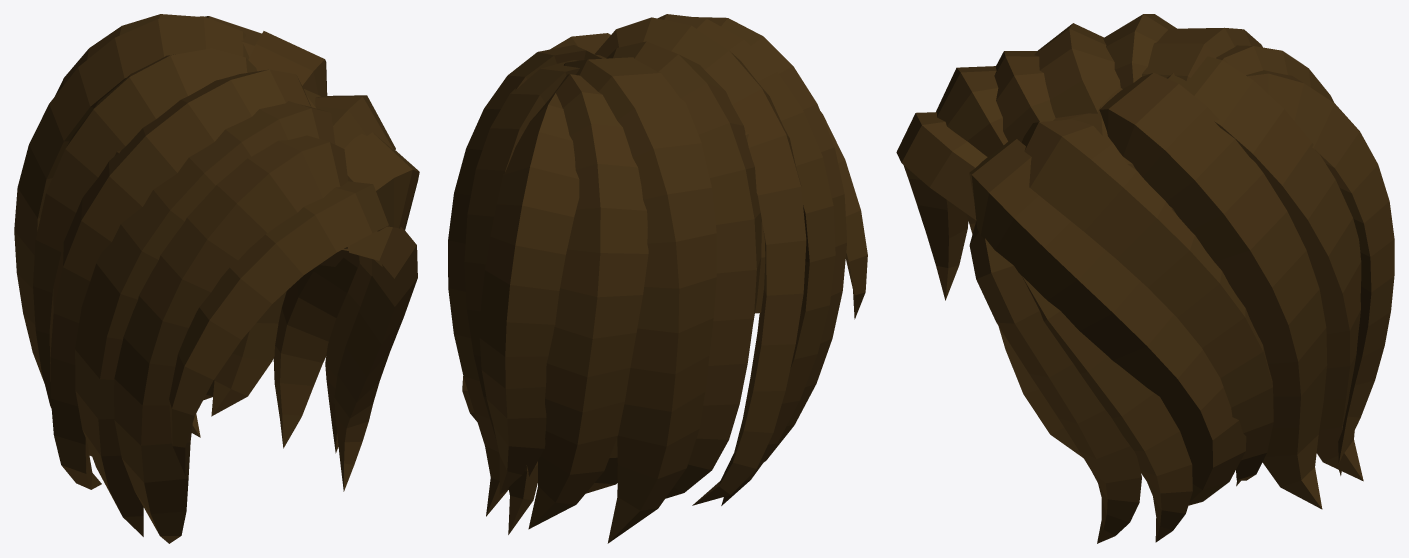
Rendered from Hair_Blond.obj.
3 views of the same model, side by side, from view 1: azimuth 30°, elevation 25°; view 2: azimuth 150°, elevation 25°; view 3: azimuth 270°, elevation 25° (orthographic). The views are drawn at different scales.
Bounding box in the file's own units: 0.2316 × 0.3111 × 0.2999.
